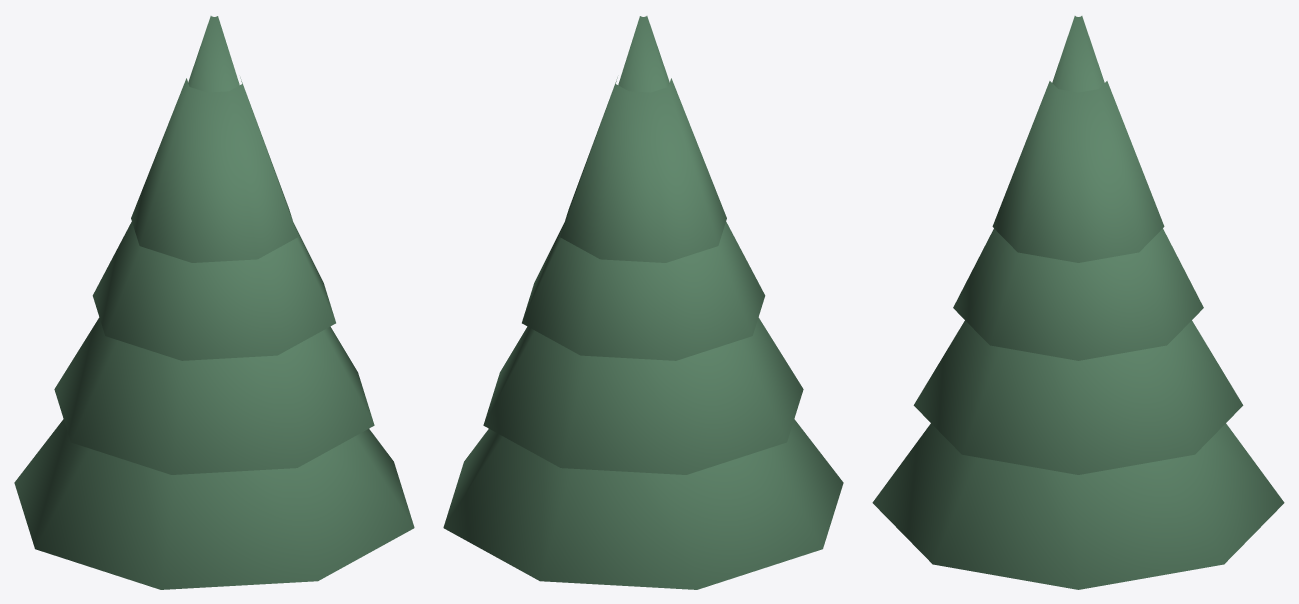
3 views of the same model, side by side, from view 1: azimuth 30°, elevation 25°; view 2: azimuth 150°, elevation 25°; view 3: azimuth 270°, elevation 25° (orthographic).
Visible parts, largest first — view 1: pine; view 2: pine; view 3: pine.
Part boxes in pixels (x1,y1,x2,y2): pine: (14,16,414,589); pine: (443,16,843,589); pine: (872,16,1284,589).
Size of the model in its own units: 2.3 by 3.45 by 2.3.
